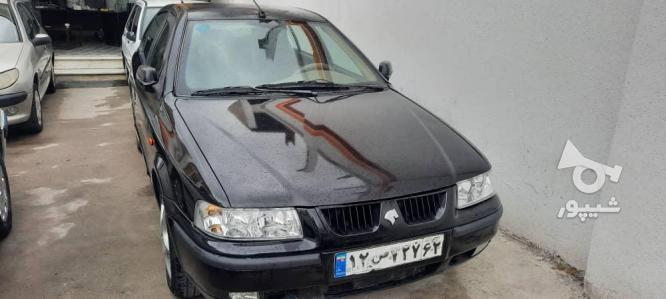car: (330, 228, 446, 282)
